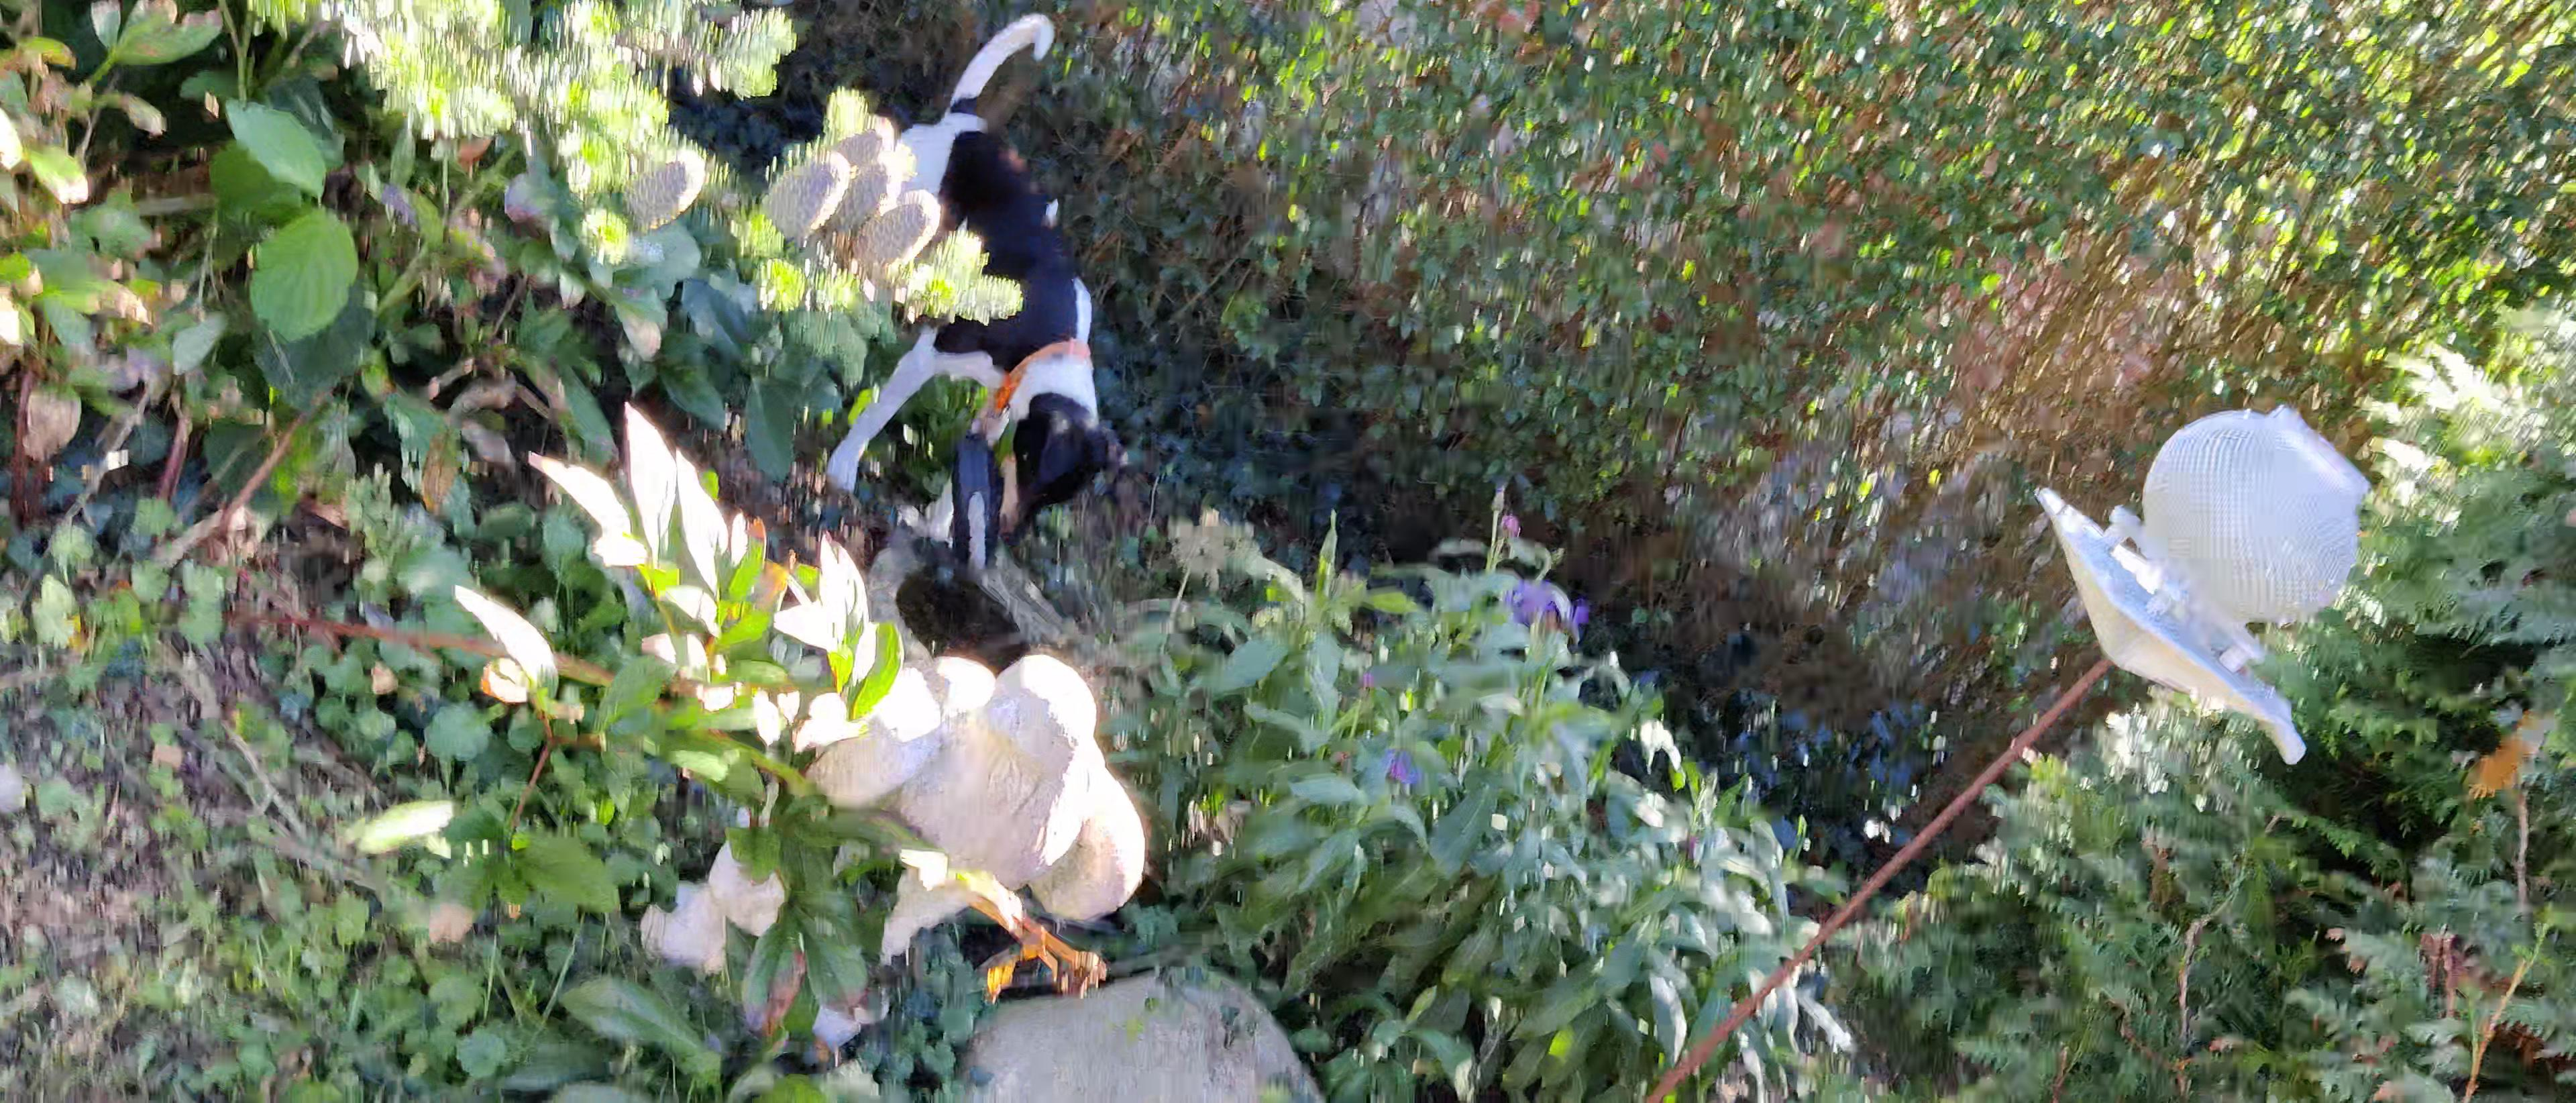Dog: (820, 10, 1115, 551)
